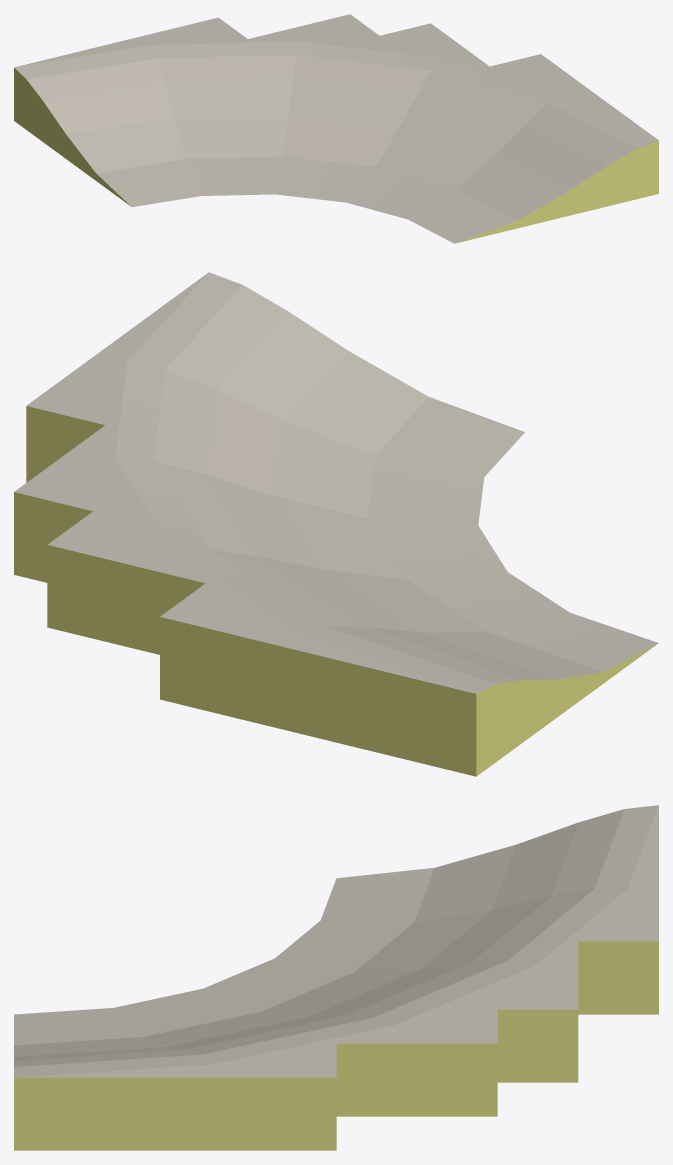
Rendered from Floor_Curve_Inner_8x8.glb.
3 renders of one model, top to bottom at view 1: azimuth 30°, elevation 25°; view 2: azimuth 150°, elevation 25°; view 3: azimuth 270°, elevation 25°, orthographic. The views are drawn at different scales.
Parts seen in each view (by area): view 1: Floor_Curve_Inner_8x8; view 2: Floor_Curve_Inner_8x8; view 3: Floor_Curve_Inner_8x8.
Boxes of the visible parts, <box> form: Floor_Curve_Inner_8x8: <box>14,14,658,243</box>; Floor_Curve_Inner_8x8: <box>14,272,658,776</box>; Floor_Curve_Inner_8x8: <box>14,805,658,1150</box>.
Bounding box in the file's own units: 800 × 100 × 800.
